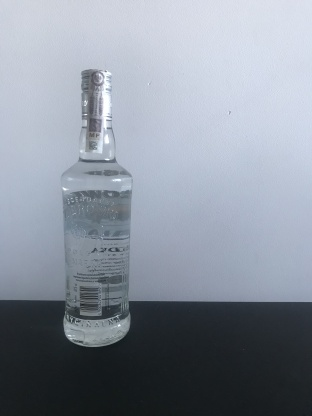nakretka: (78, 65, 114, 124)
